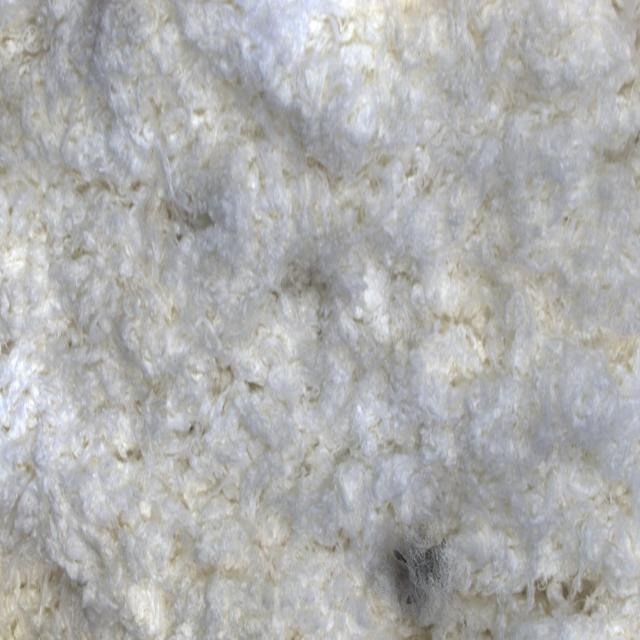dust: (317, 479, 487, 640)
